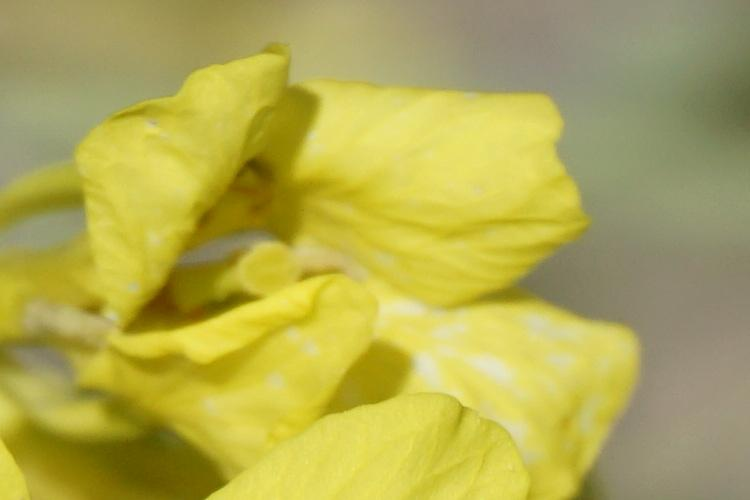yellow: (27, 75, 601, 482)
